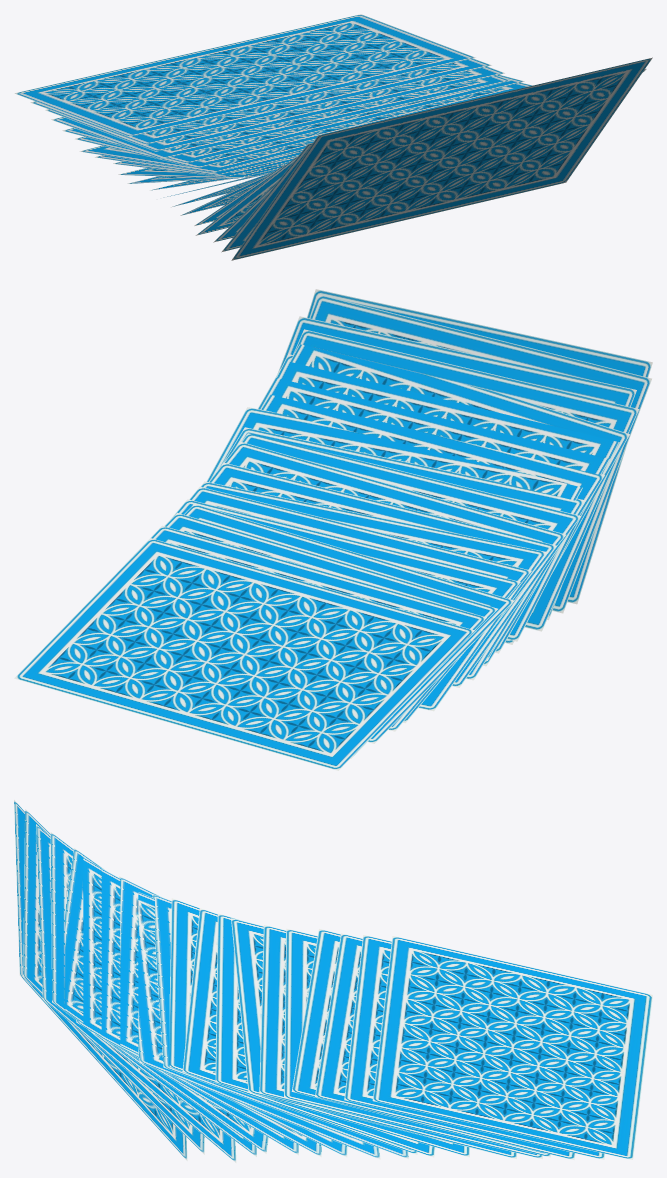
3 views of the same model, one above another, from view 1: azimuth 30°, elevation 25°; view 2: azimuth 150°, elevation 25°; view 3: azimuth 270°, elevation 25° (orthographic). The views are drawn at different scales.
Visible parts, largest first — view 1: Cards; view 2: Cards; view 3: Cards.
Boxes of the visible parts, left/top/right/bottom form: Cards: left=14, top=14, right=652, bottom=260; Cards: left=14, top=289, right=652, bottom=770; Cards: left=14, top=800, right=652, bottom=1162.
Size of the model in its own units: 1.59 by 0.8071 by 2.39.
Materials: 1 (1 with a texture image).
